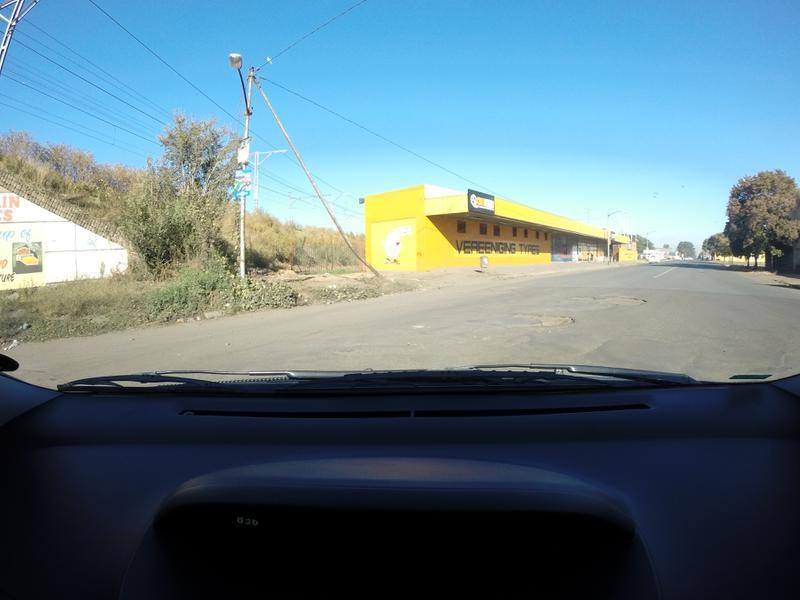pothole: (591, 293, 645, 309), (535, 311, 574, 327)
